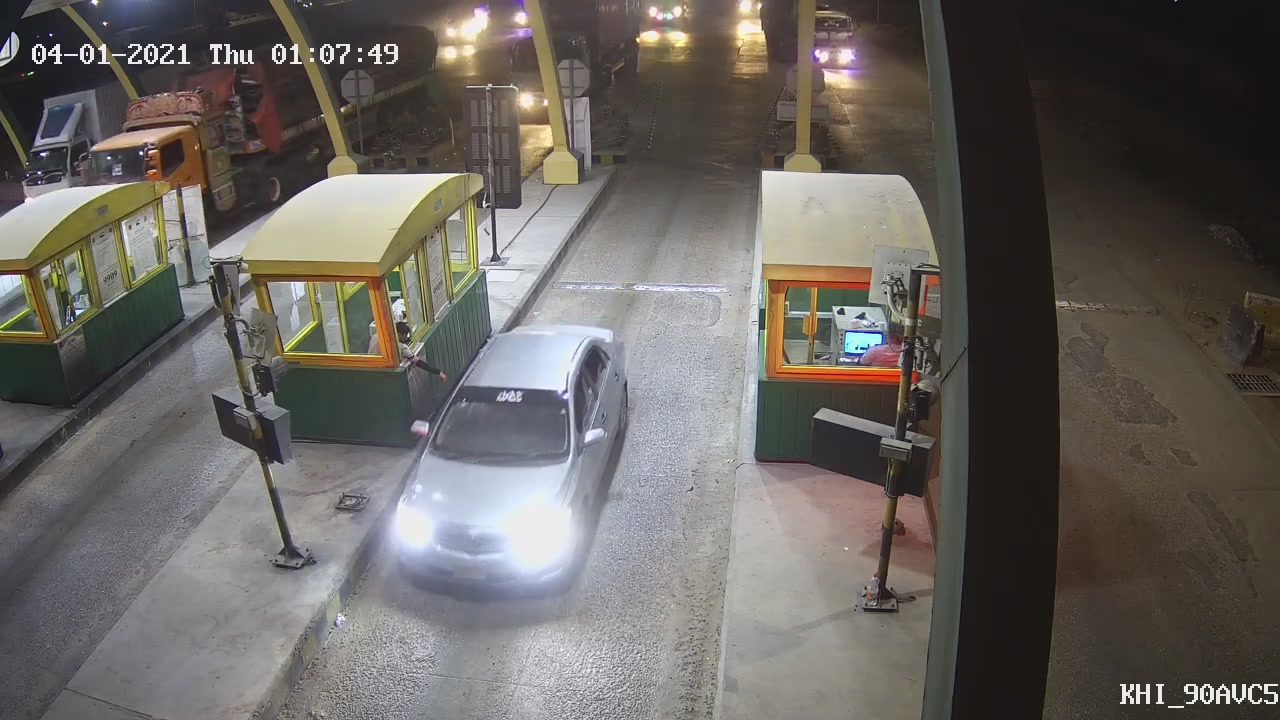F1: (389, 322, 636, 609)
